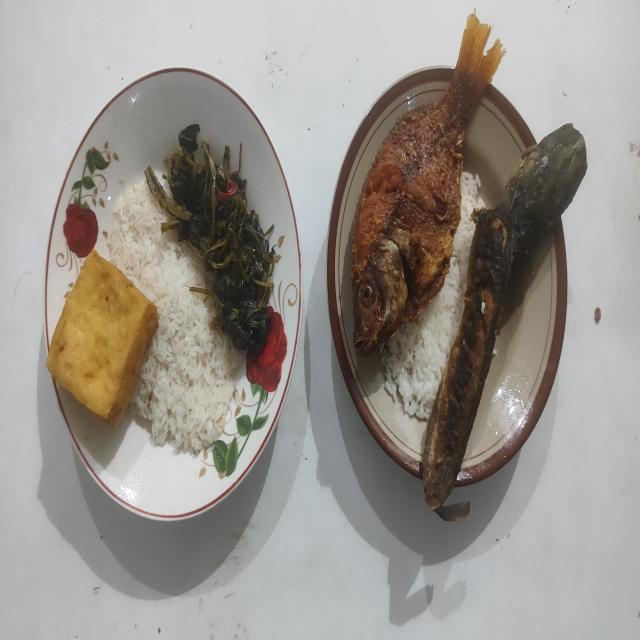ikan_mujair: (351, 18, 504, 353)
nasi_putih: (106, 184, 240, 456), (381, 172, 480, 420)
tahu_goreng: (47, 249, 158, 424)
tumis_kangkung: (146, 124, 276, 354)
